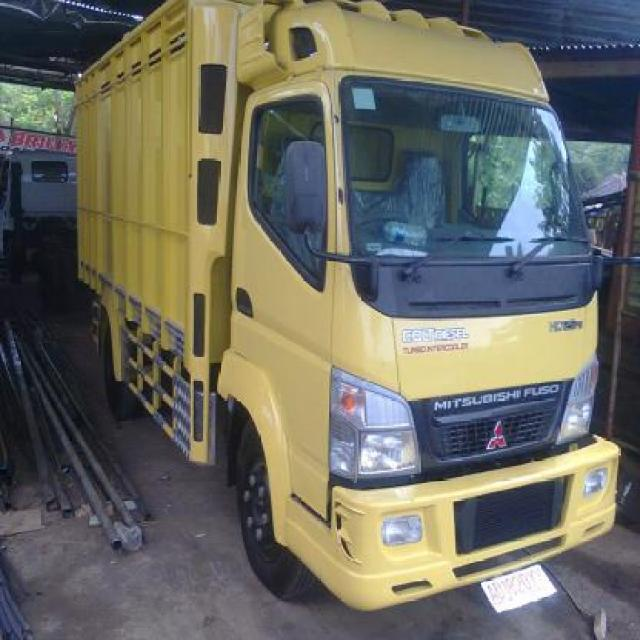truck: (75, 16, 616, 598)
